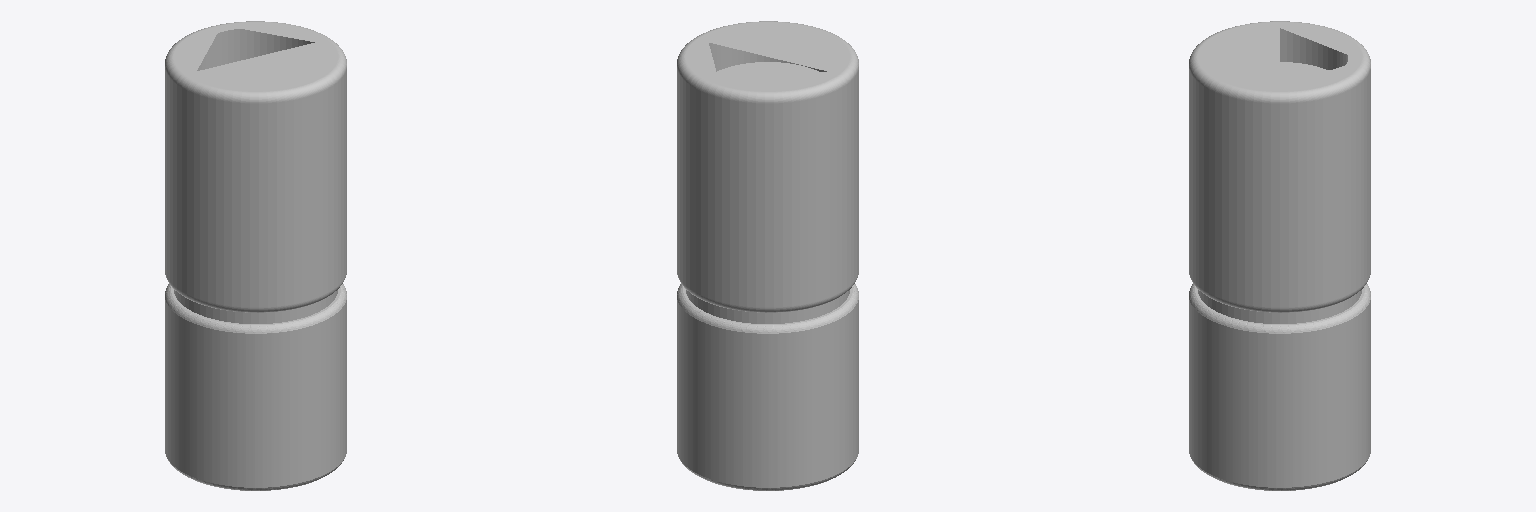
File: tallLightHoleCylinder.obj
3 views of the same model, side by side, from view 1: azimuth 30°, elevation 25°; view 2: azimuth 150°, elevation 25°; view 3: azimuth 270°, elevation 25° (orthographic).
Parts seen in each view (by area): view 1: Cylinder.002, Cylinder, Cylinder.001; view 2: Cylinder.002, Cylinder, Cylinder.001; view 3: Cylinder.002, Cylinder, Cylinder.001.
Part boxes in pixels (left/top/right/bottom): Cylinder.002: left=165, top=21, right=346, bottom=312; Cylinder: left=165, top=284, right=346, bottom=490; Cylinder.001: left=174, top=290, right=337, bottom=323; Cylinder.002: left=677, top=21, right=858, bottom=312; Cylinder: left=677, top=284, right=858, bottom=490; Cylinder.001: left=686, top=290, right=849, bottom=323; Cylinder.002: left=1189, top=21, right=1370, bottom=312; Cylinder: left=1189, top=284, right=1370, bottom=490; Cylinder.001: left=1198, top=290, right=1361, bottom=323.
Bounding box in the file's own units: 2 × 4.81 × 2.